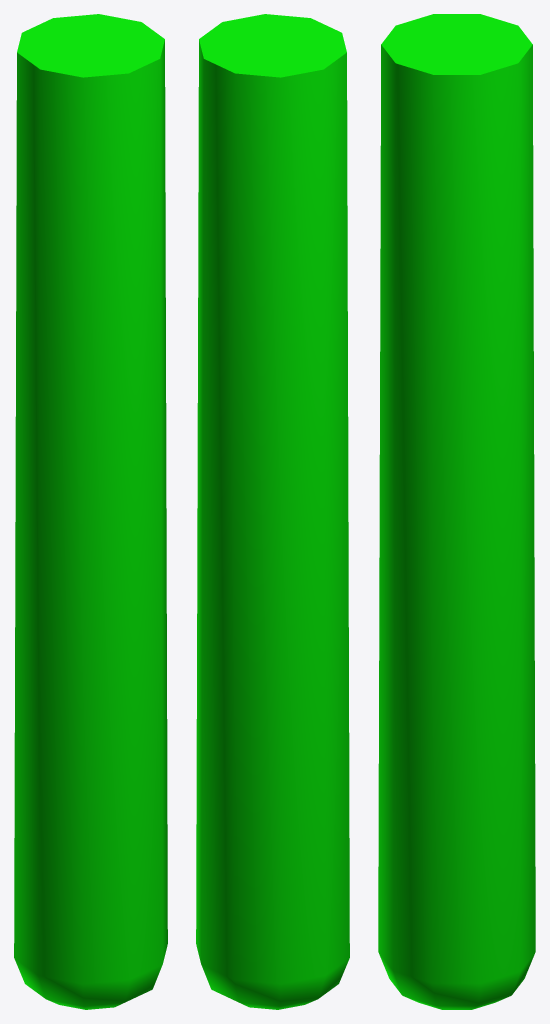
Rendered from Set_08_Tubes_Liquid_02.fbx.
3 renders of one model, left to right at view 1: azimuth 30°, elevation 25°; view 2: azimuth 150°, elevation 25°; view 3: azimuth 270°, elevation 25°, orthographic.
Visible parts, largest first — view 1: Set_08_Tubes_Liquid_02; view 2: Set_08_Tubes_Liquid_02; view 3: Set_08_Tubes_Liquid_02.
Boxes of the visible parts, x1,y1,x2,y2 form: Set_08_Tubes_Liquid_02: (14, 14, 167, 1009); Set_08_Tubes_Liquid_02: (196, 14, 349, 1009); Set_08_Tubes_Liquid_02: (378, 14, 535, 1009).
Bounding box in the file's own units: 2.35 × 16.66 × 2.48.
